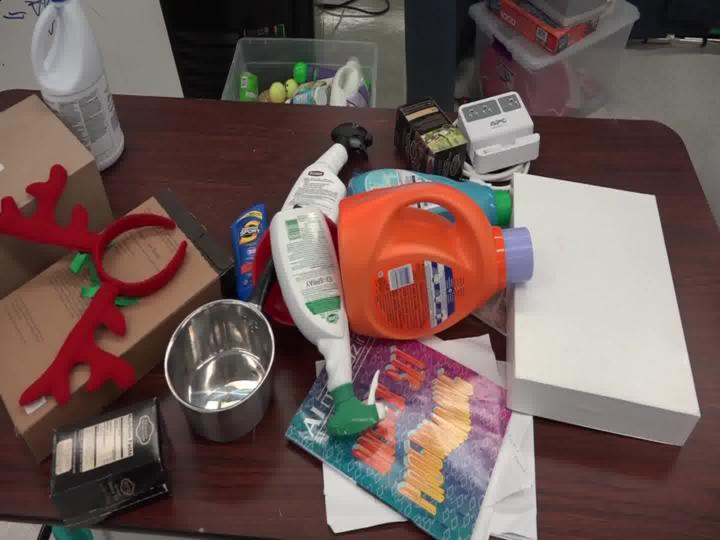downy: (319, 150, 517, 242)
